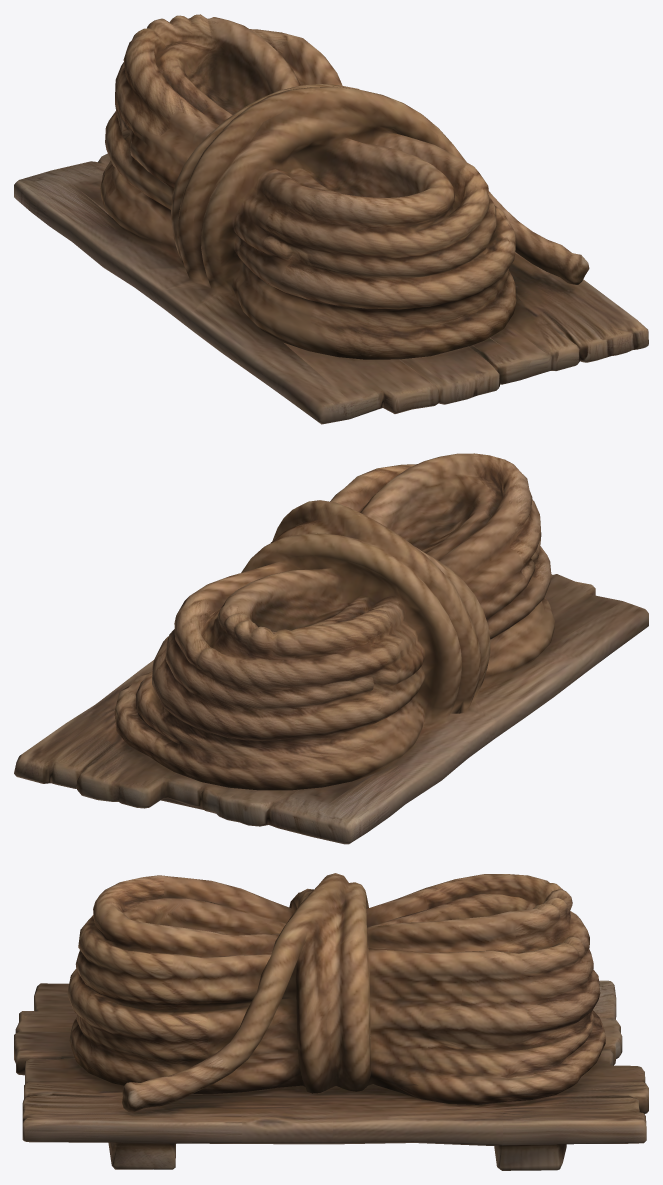
Rendered from SM_Env_SohoRopeCoil.fbx.
The picture shows the model from 3 angles, top to bottom: view 1: azimuth 30°, elevation 25°; view 2: azimuth 150°, elevation 25°; view 3: azimuth 270°, elevation 25°; orthographic projection. The views are drawn at different scales.
Parts seen in each view (by area): view 1: SM_Env_SohoRopeCoil; view 2: SM_Env_SohoRopeCoil; view 3: SM_Env_SohoRopeCoil.
Part boxes in pixels (x1,y1,x2,y2): SM_Env_SohoRopeCoil: [14, 14, 648, 424]; SM_Env_SohoRopeCoil: [14, 453, 648, 844]; SM_Env_SohoRopeCoil: [14, 873, 648, 1170].
Bounding box in the file's own units: 14.41 × 25.51 × 9.
Materials: 1 (1 with a texture image).
